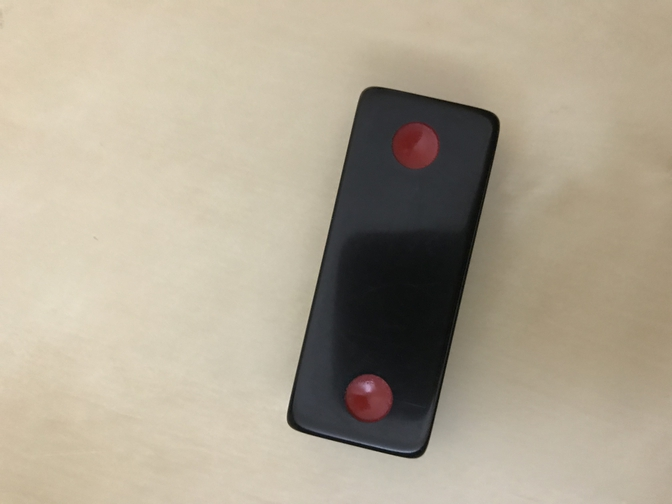earth: (286, 87, 500, 459)
